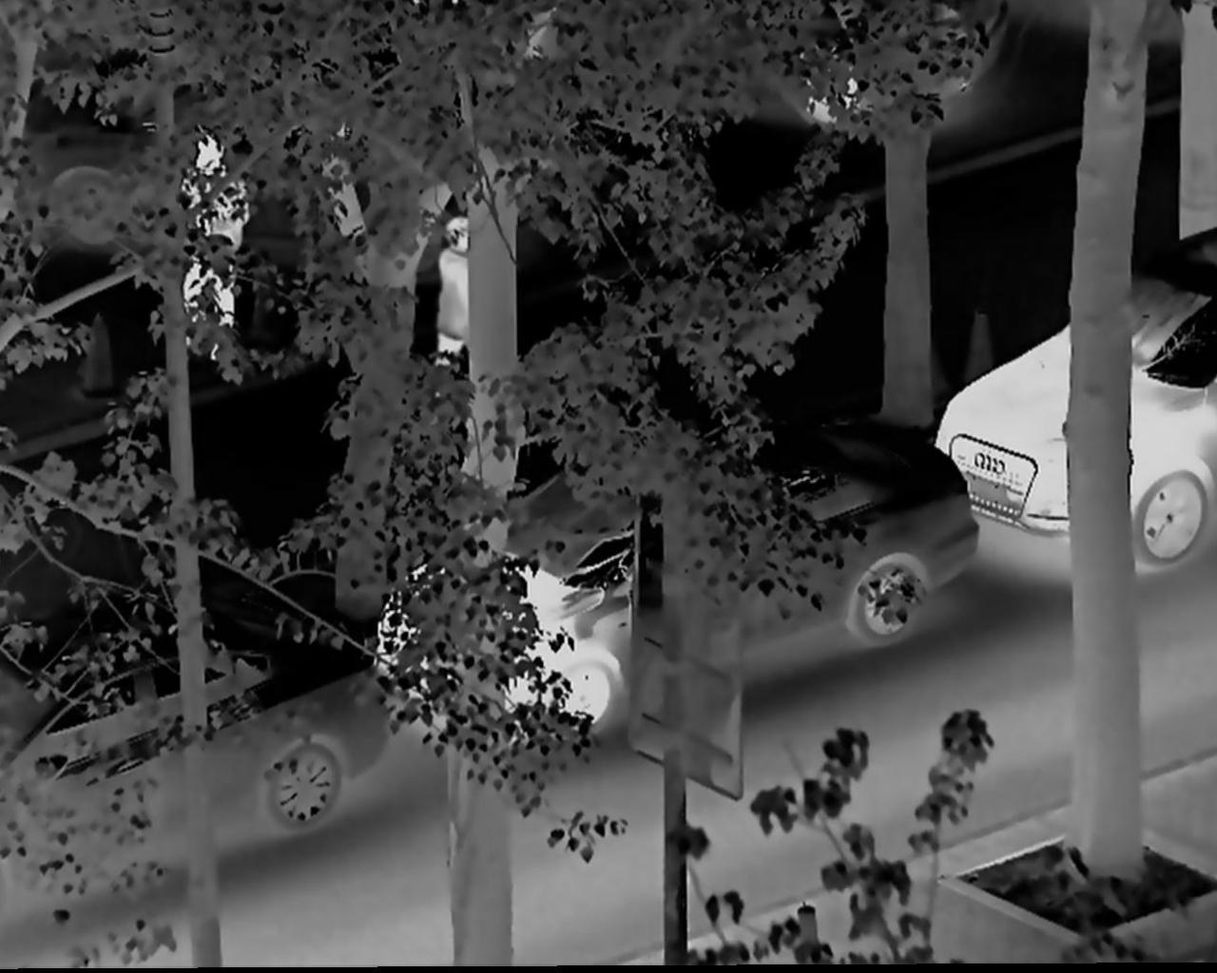person: (179, 137, 249, 347), (417, 216, 481, 402)
